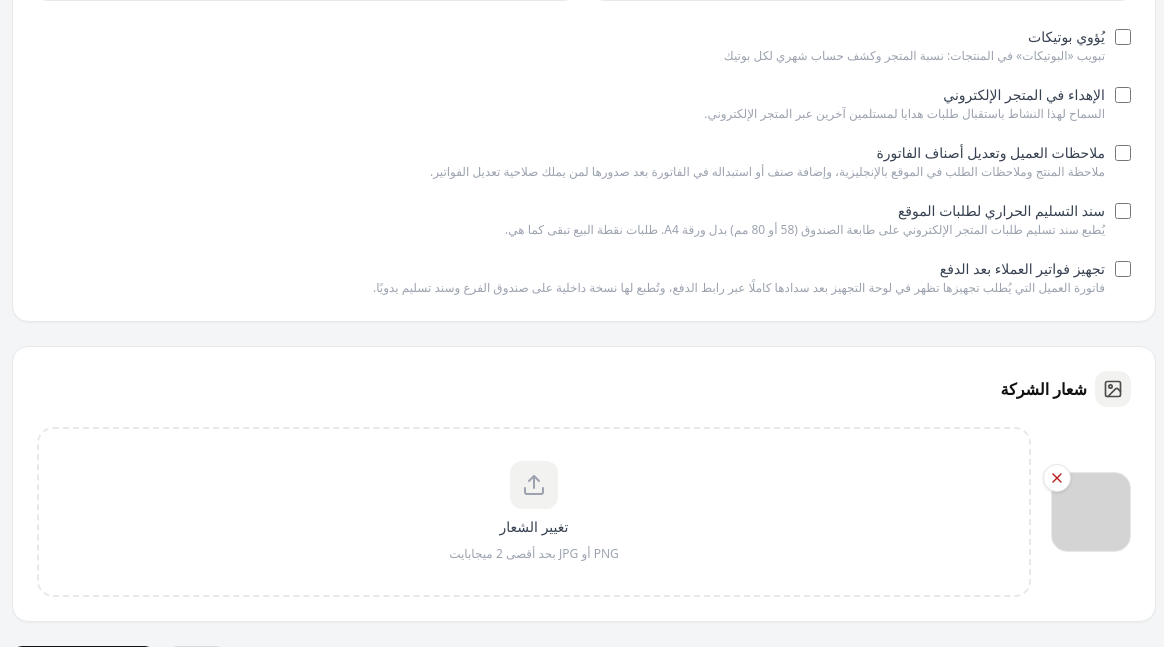
شعار الشركة في لوحة المنصّة › والمعاينة تعرض الشعار المحفوظ ثم تختفي عند حذفه
(page scrolled)
What coordinates should you click on to do the following:
click the button named "حذف الشعار"
I would click on:
 (1057, 478)
Its box is [1043,464,1071,492].
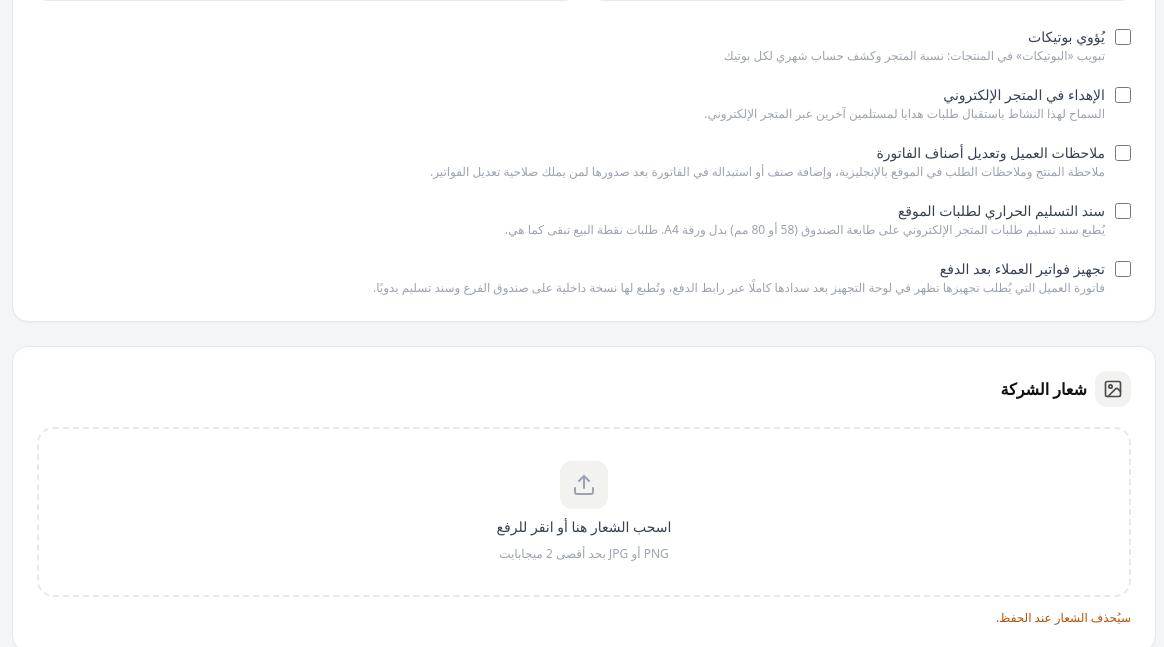
Result: the text "سيُحذف الشعار عند الحفظ." is shown at [996,609,1131,626]
